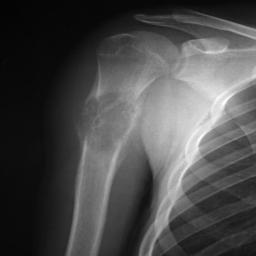cancer: (73, 74, 140, 152)
